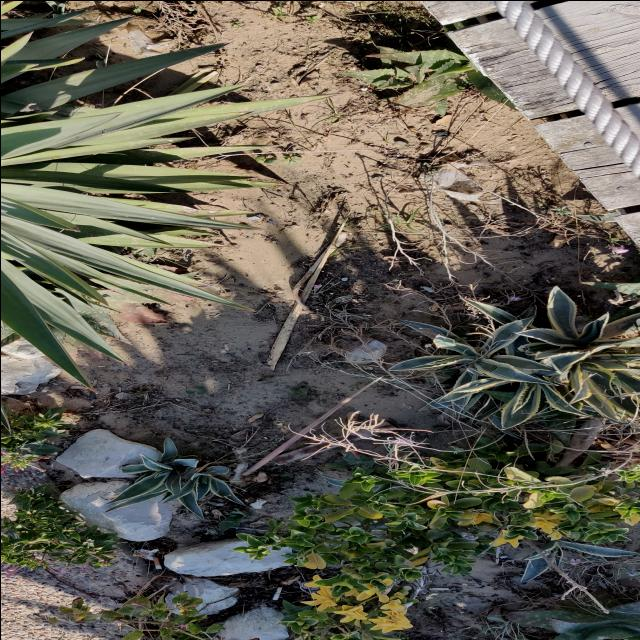Cigarette: (272, 586, 282, 600), (152, 556, 162, 568), (429, 586, 449, 590)
Plastic film: (420, 158, 506, 203), (118, 29, 169, 55), (344, 340, 386, 362), (132, 552, 152, 556)
